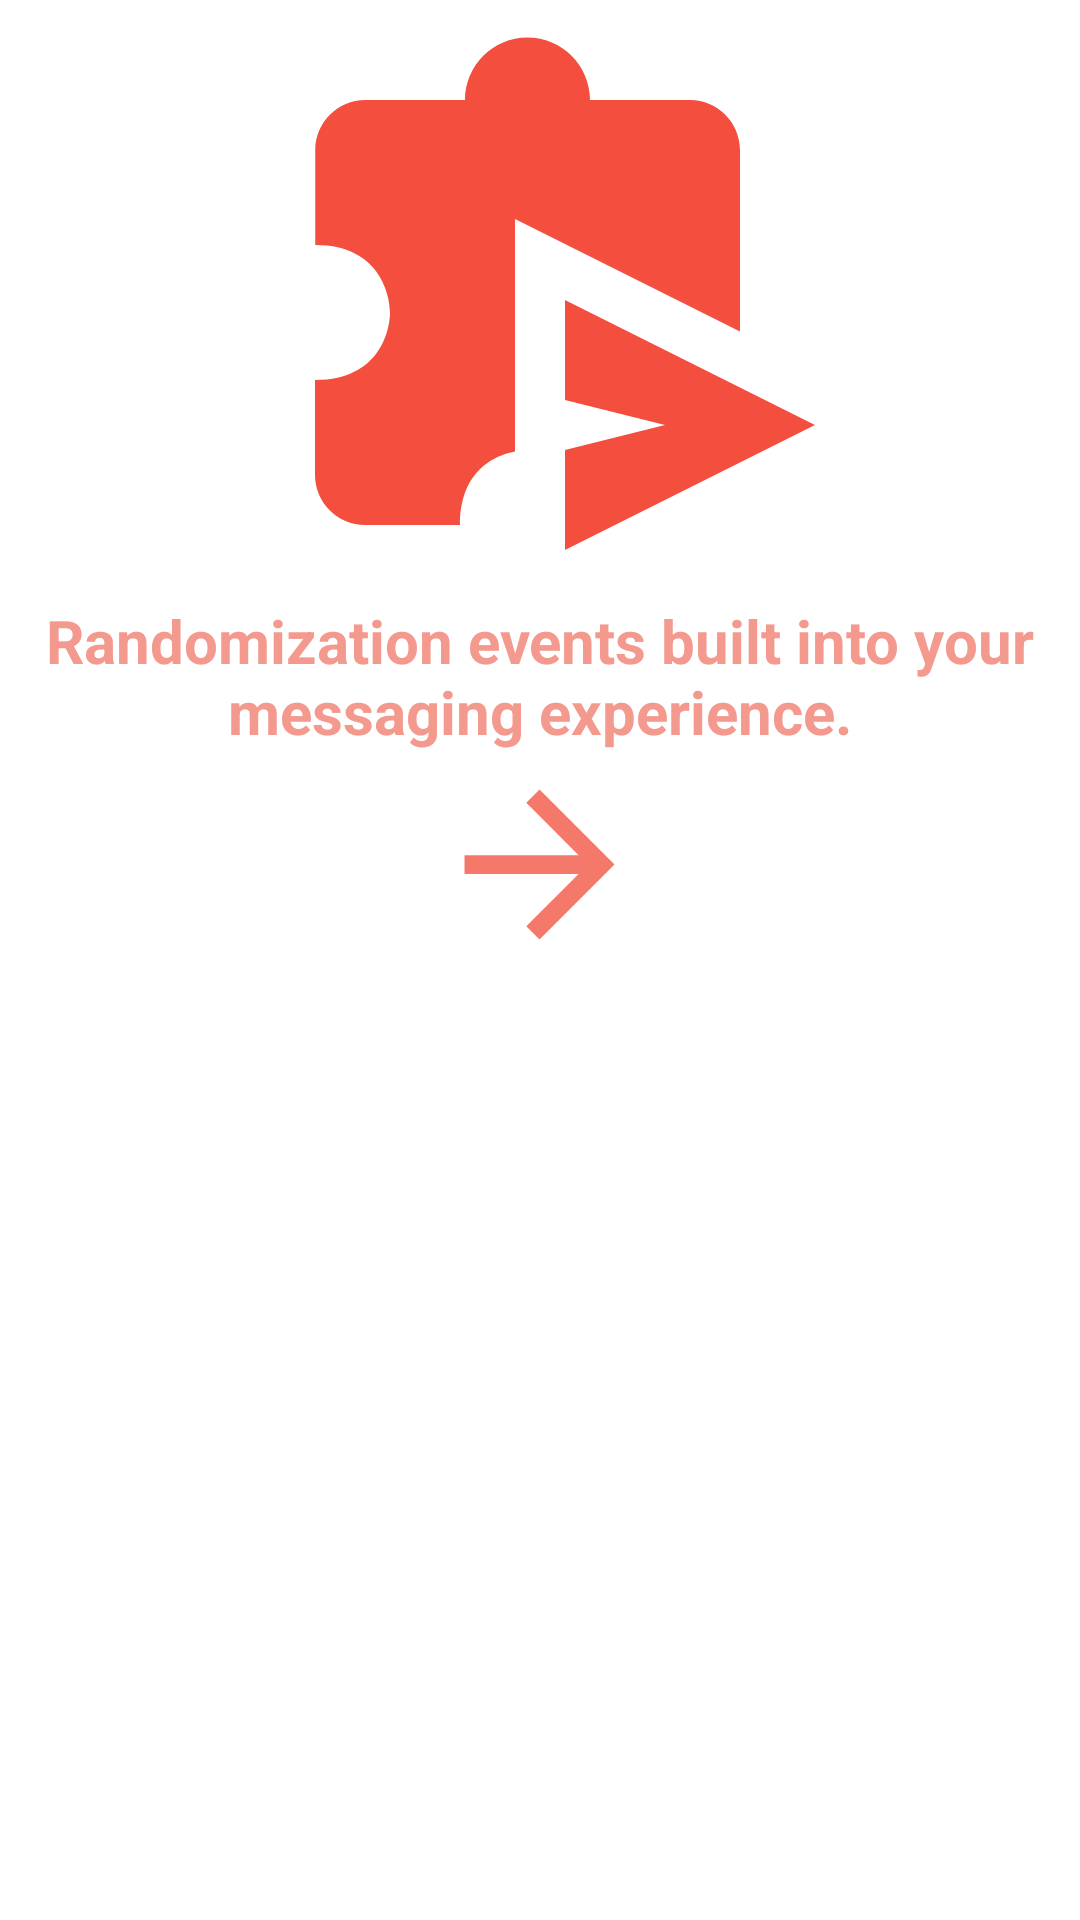

Icons on this 1080×1920 Android screen, each with its box as (x1, y1, x2, y2):
arrow forward: (464, 789, 615, 940)
